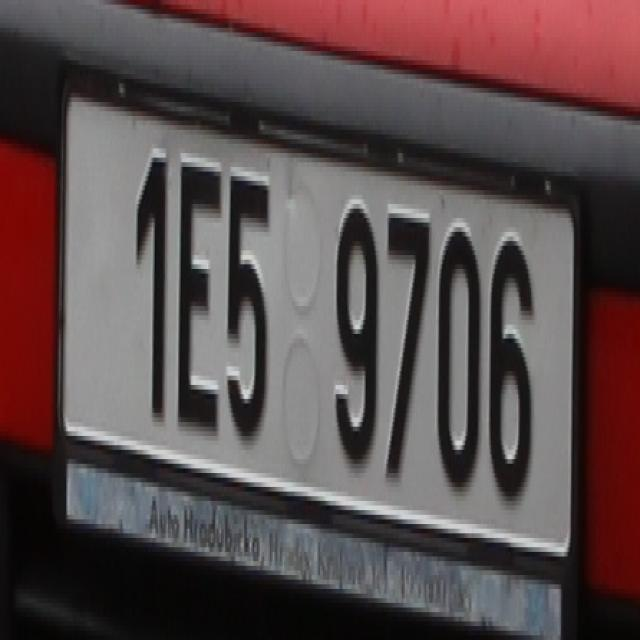0: (436, 213, 482, 478)
1: (132, 144, 168, 418)
5: (222, 162, 272, 446)
6: (482, 222, 537, 514)
7: (380, 181, 428, 482)
9: (330, 180, 376, 460)
E: (174, 152, 222, 432)
